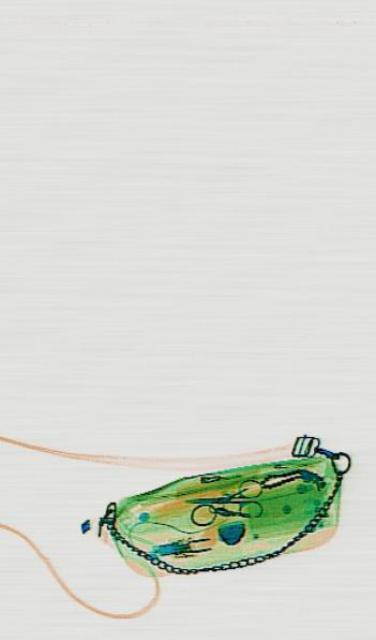Scissors: (182, 477, 260, 517)
